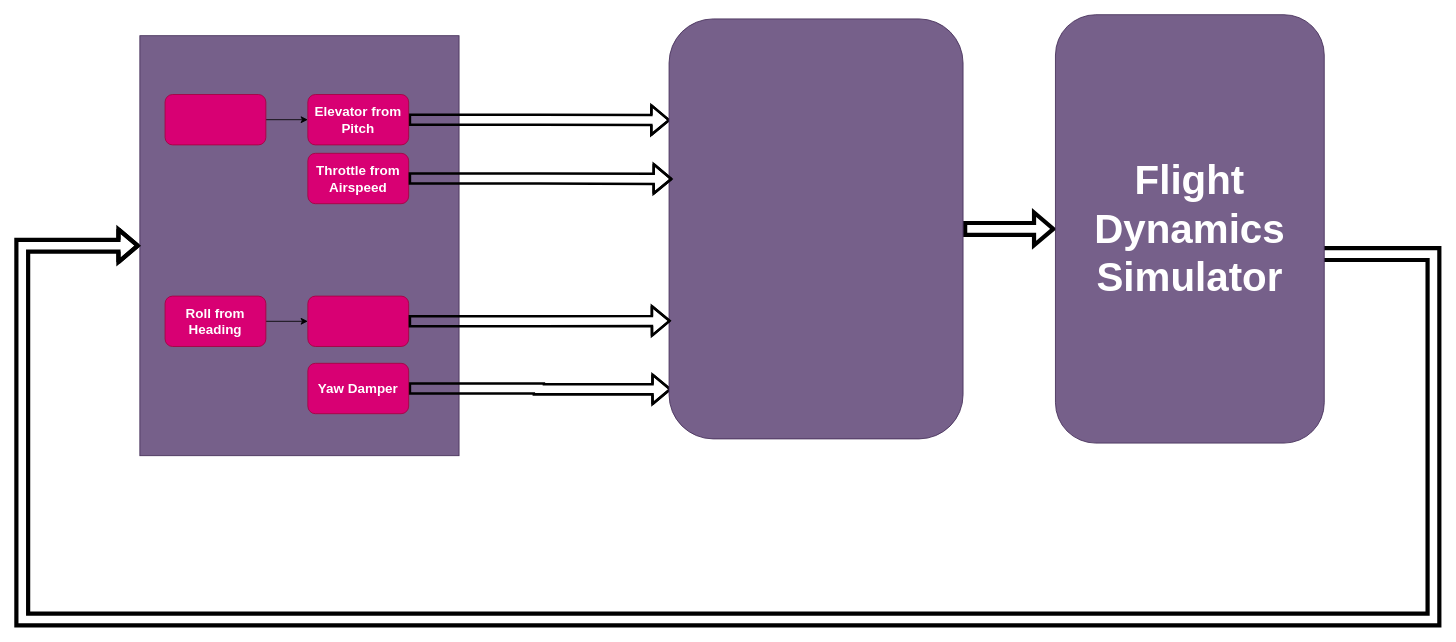
The diagram is 1456 pixels wide and 642 high, and some of its shapes have lost their labels. Each missing label, with the centre of its shape:
Aileron from Roll: point 358,320
Airframe Model: point 815,228
Pitch from Altitude: point 215,119
